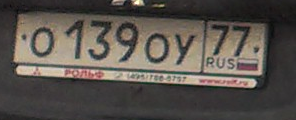character: (168, 31, 199, 69), (87, 19, 113, 64), (113, 20, 139, 65), (28, 24, 58, 58), (143, 32, 171, 67), (65, 16, 87, 60), (230, 22, 252, 60), (209, 20, 231, 57)
